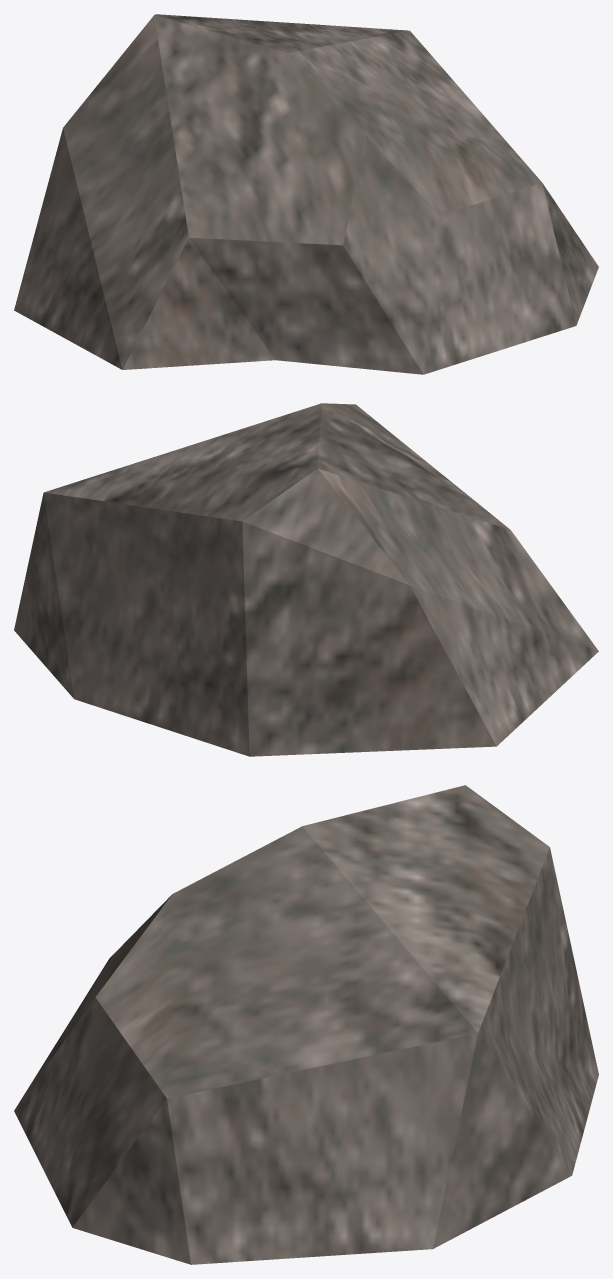
File: rockSmallGray.fbx
3 renders of one model, top to bottom at view 1: azimuth 30°, elevation 25°; view 2: azimuth 150°, elevation 25°; view 3: azimuth 270°, elevation 25°, orthographic. The views are drawn at different scales.
Visible parts, largest first — view 1: rockSmall3; view 2: rockSmall3; view 3: rockSmall3.
Boxes of the visible parts, left/top/right/bottom form: rockSmall3: left=14, top=14, right=598, bottom=374; rockSmall3: left=14, top=403, right=598, bottom=756; rockSmall3: left=14, top=785, right=598, bottom=1264.
Size of the model in its own units: 2.25 by 2 by 1.11.
1 material, 1 textured.
